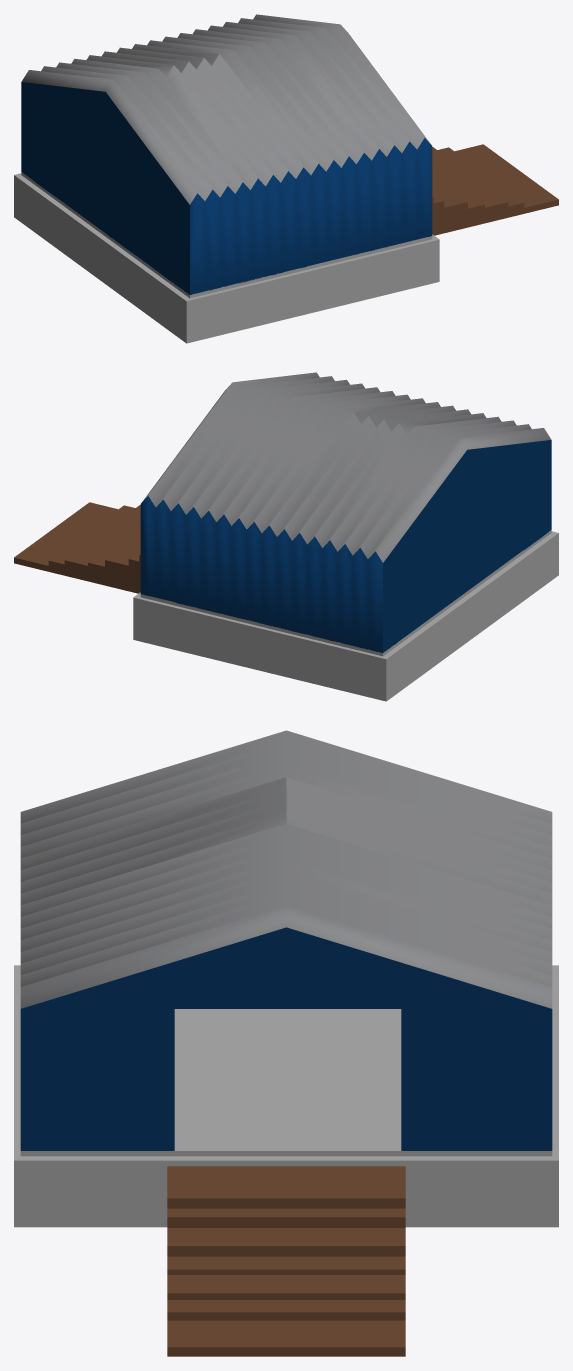
The model's file is Warehouse.fbx.
3 renders of one model, top to bottom at view 1: azimuth 30°, elevation 25°; view 2: azimuth 150°, elevation 25°; view 3: azimuth 270°, elevation 25°, orthographic. The views are drawn at different scales.
Parts seen in each view (by area): view 1: polySurface2; view 2: polySurface2; view 3: polySurface2.
Boxes of the visible parts, <box> form: polySurface2: <box>14,14,558,343</box>; polySurface2: <box>14,372,558,701</box>; polySurface2: <box>14,730,558,1356</box>.
Bounding box in the file's own units: 47.06 × 21.1 × 33.42.
